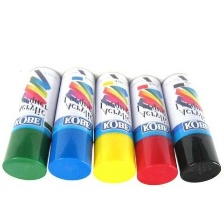aerosol_cans: (0, 65, 65, 183), (160, 71, 223, 185), (46, 65, 101, 183), (128, 71, 179, 188), (88, 69, 137, 185)
